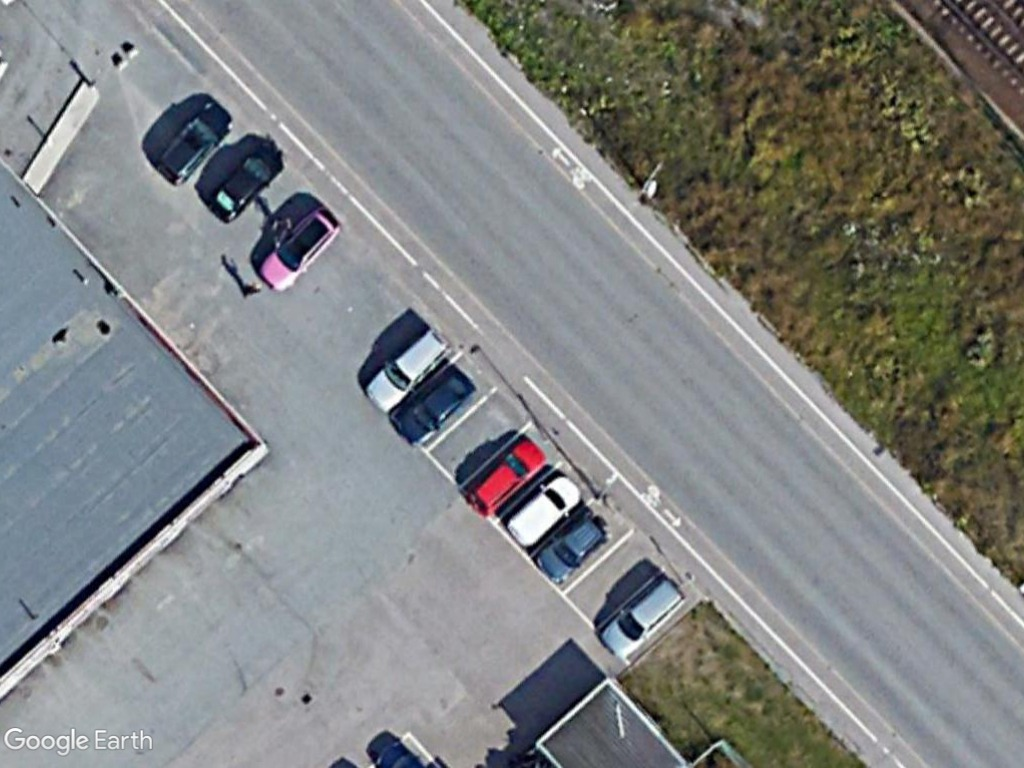car: (360, 324, 456, 416), (597, 573, 688, 663), (150, 98, 239, 189), (257, 204, 343, 297), (462, 434, 551, 520), (393, 364, 483, 449), (207, 142, 289, 223), (504, 472, 586, 553), (535, 511, 612, 588)
